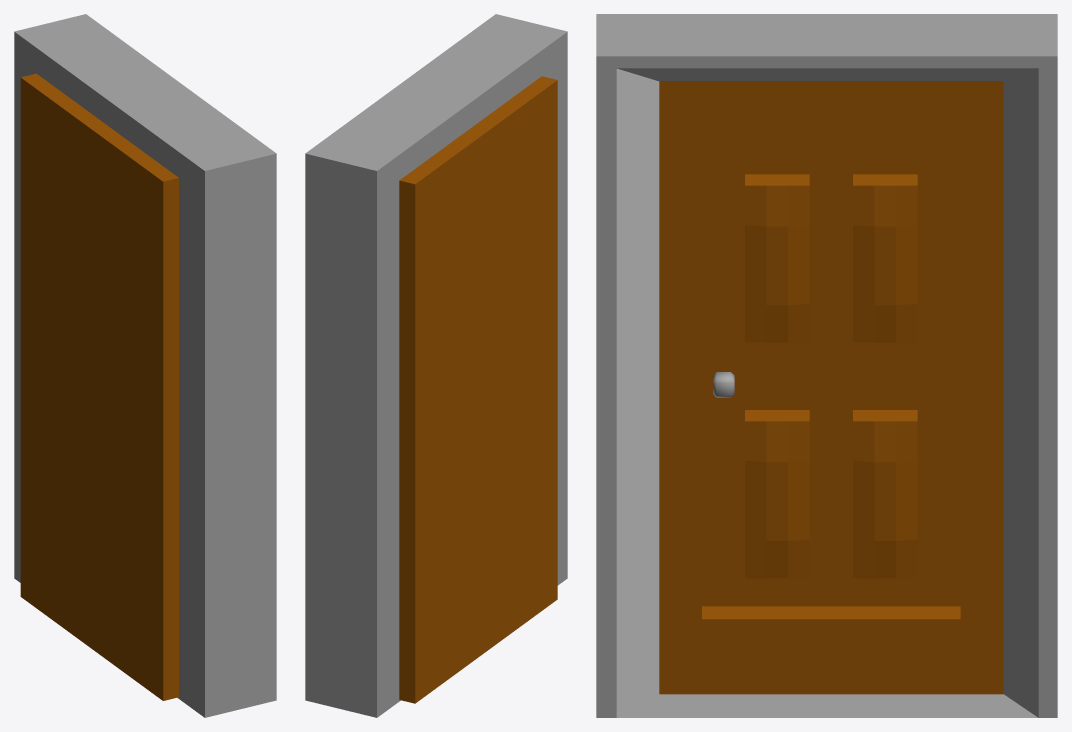
The model's file is Door.obj.
3 views of the same model, side by side, from view 1: azimuth 30°, elevation 25°; view 2: azimuth 150°, elevation 25°; view 3: azimuth 270°, elevation 25° (orthographic). The views are drawn at different scales.
Parts seen in each view (by area): view 1: Door_Cube.005; view 2: Door_Cube.005; view 3: Door_Cube.005.
Boxes of the visible parts, <box> form: Door_Cube.005: <box>14,14,276,717</box>; Door_Cube.005: <box>305,14,567,717</box>; Door_Cube.005: <box>596,14,1057,717</box>.
Bounding box in the file's own units: 0.7105 × 4.23 × 2.68.
Materials: 1 (1 with a texture image).
